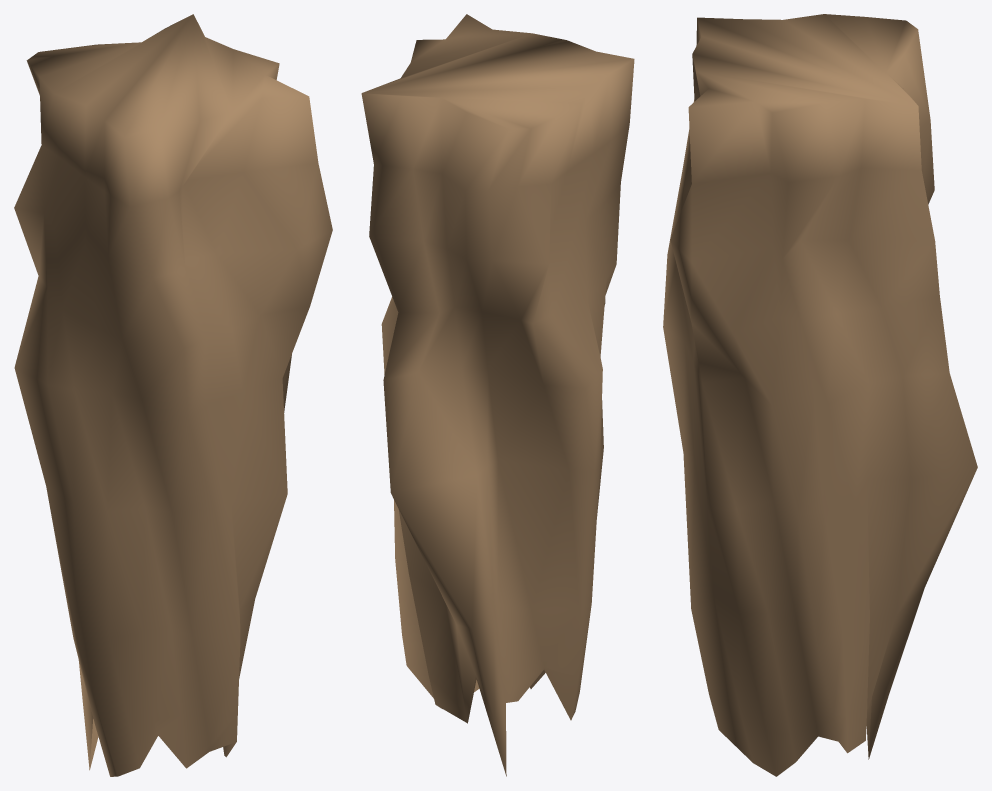
Rendered from CLIFF_02_v01.fbx.
3 views of the same model, side by side, from view 1: azimuth 30°, elevation 25°; view 2: azimuth 150°, elevation 25°; view 3: azimuth 270°, elevation 25° (orthographic). The views are drawn at different scales.
Visible parts, largest first — view 1: BIG_CLIFF; view 2: BIG_CLIFF; view 3: BIG_CLIFF.
Boxes of the visible parts, left/top/right/bottom form: BIG_CLIFF: left=14, top=14, right=332, bottom=776; BIG_CLIFF: left=361, top=14, right=634, bottom=776; BIG_CLIFF: left=663, top=14, right=977, bottom=776.
Bounding box in the file's own units: 401 × 1151 × 457.
